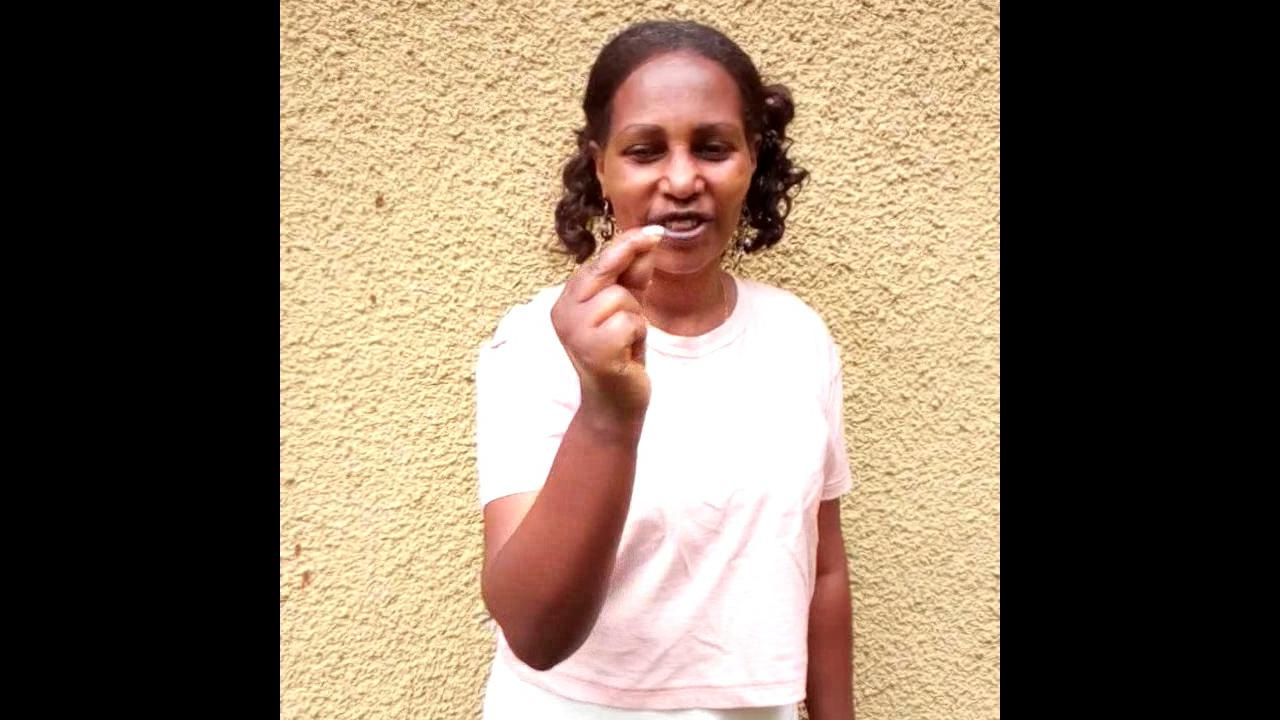CHE: (547, 227, 668, 510)
